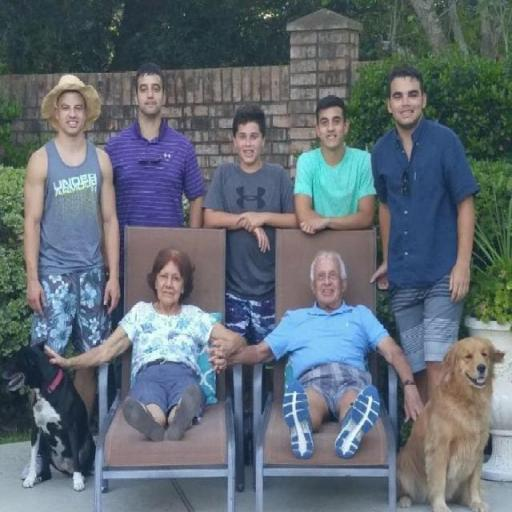Under Armour: (232, 185, 268, 210)
